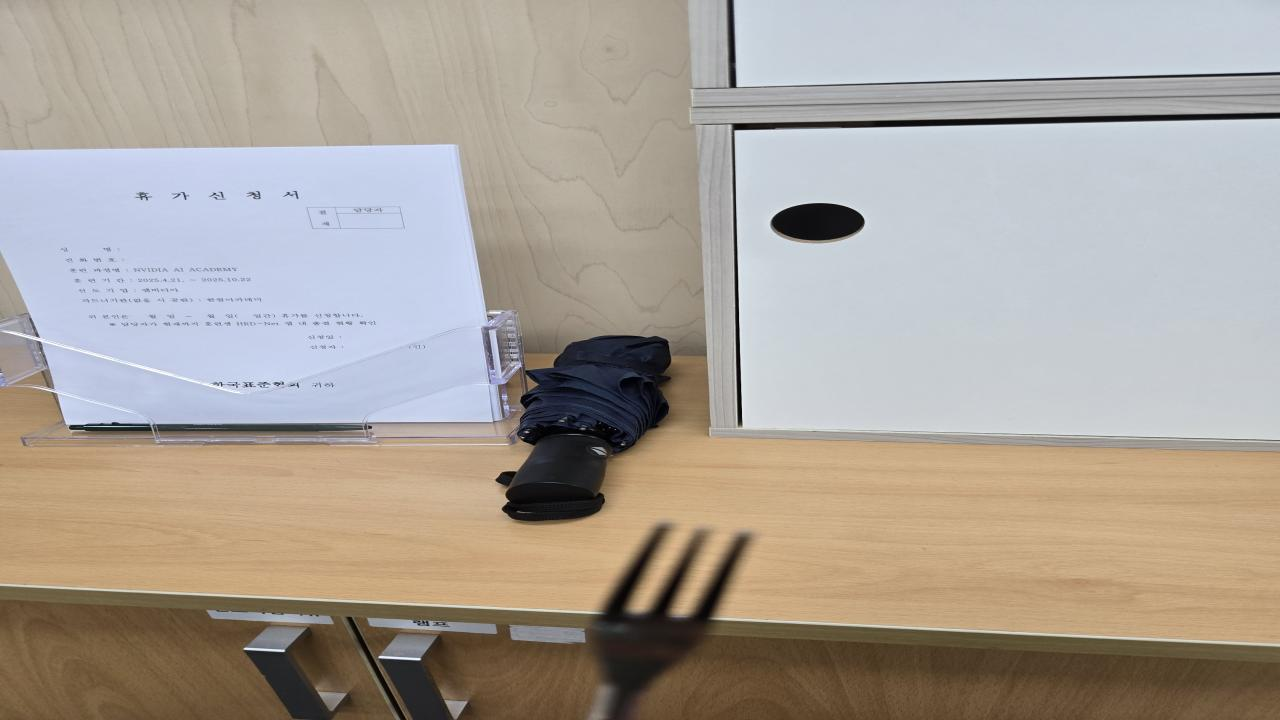fork: (588, 520, 756, 718)
